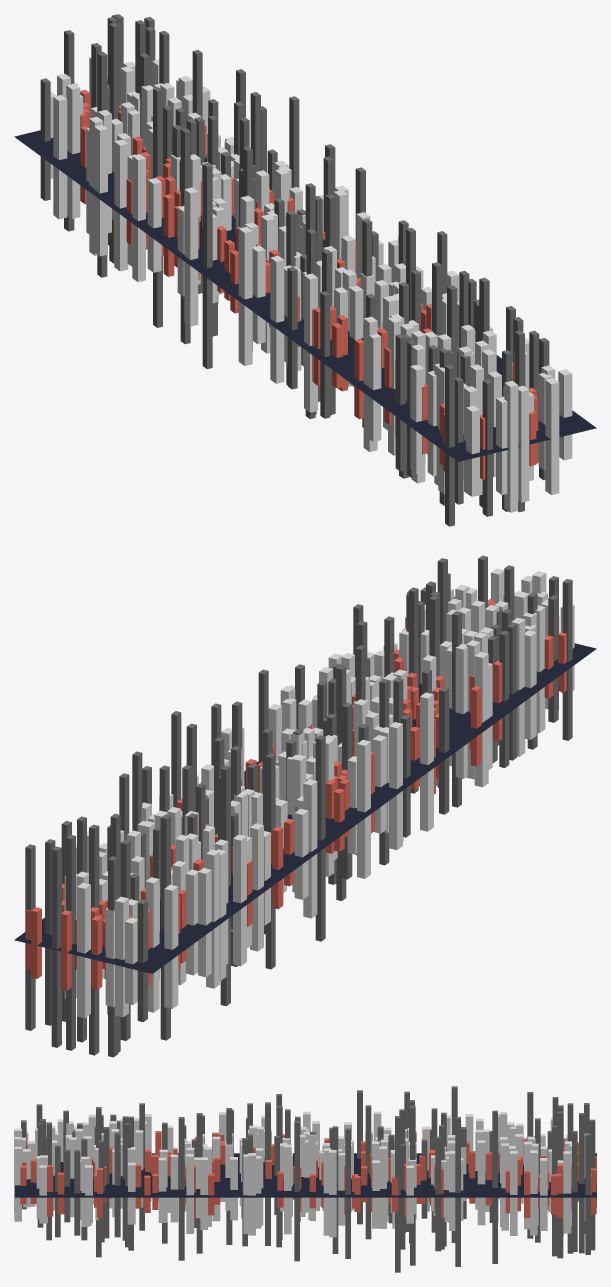
The model's file is city chunk left.fbx.
3 renders of one model, top to bottom at view 1: azimuth 30°, elevation 25°; view 2: azimuth 150°, elevation 25°; view 3: azimuth 270°, elevation 25°, orthographic. The views are drawn at different scales.
Visible parts, largest first — view 1: Plane.007; view 2: Plane.007; view 3: Plane.007.
Part boxes in pixels (bbox=[...]): Plane.007: bbox=[14, 14, 596, 526]; Plane.007: bbox=[14, 555, 596, 1057]; Plane.007: bbox=[14, 1086, 596, 1272].
Bounding box in the file's own units: 3600 × 5989 × 20029.
